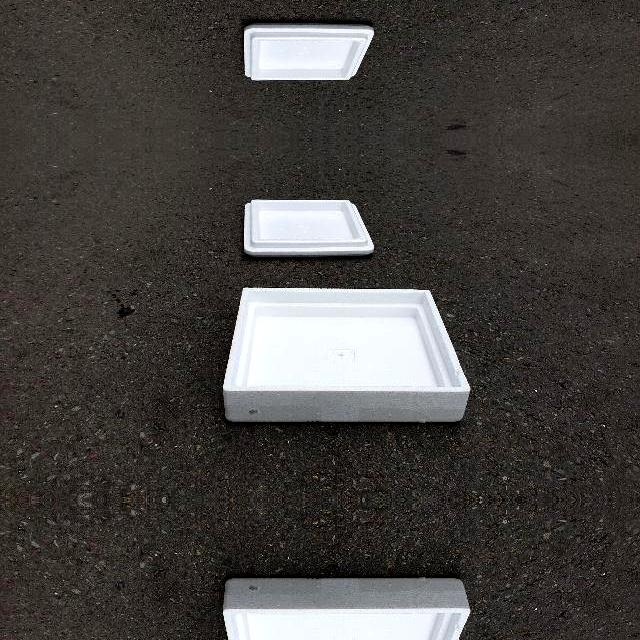Styrofoam: (220, 284, 470, 426), (223, 287, 471, 422), (220, 574, 470, 640), (223, 578, 471, 640), (244, 196, 374, 254), (244, 26, 374, 84), (245, 200, 374, 254), (245, 26, 374, 80)
